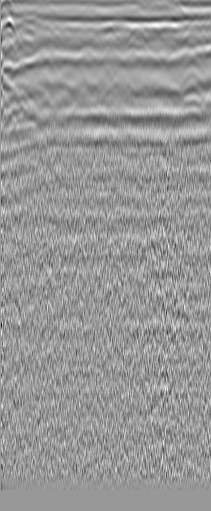오수: (14, 15, 51, 42)
우수: (169, 19, 205, 50)
